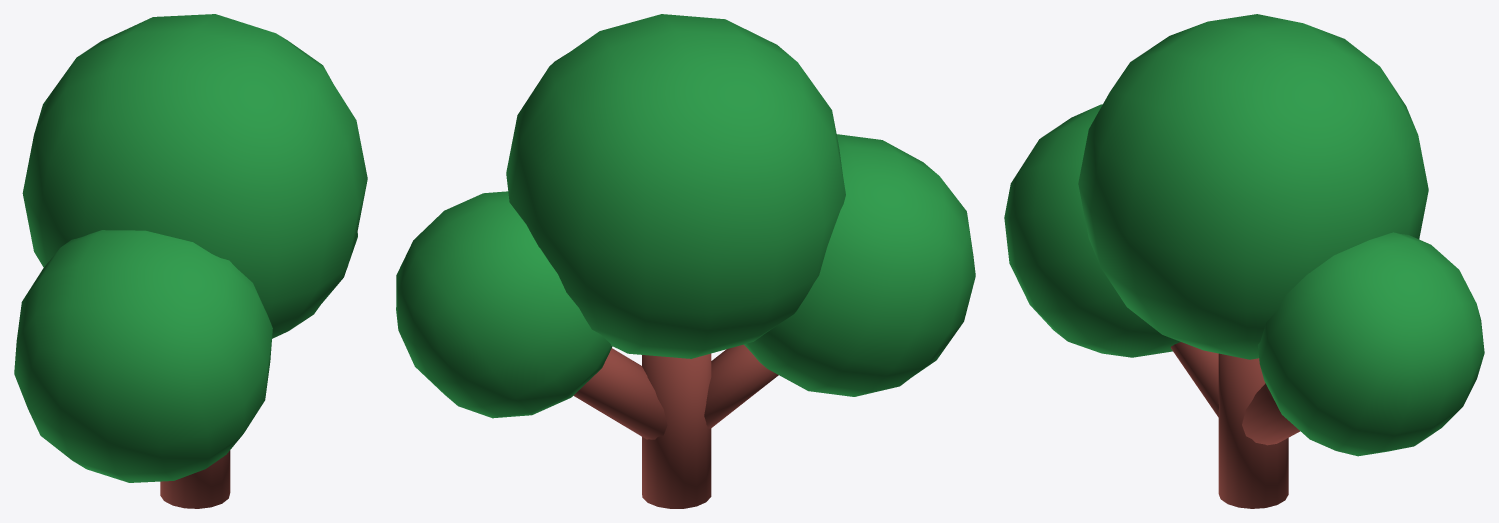
File: Bush_Food.glb
3 views of the same model, side by side, from view 1: azimuth 30°, elevation 25°; view 2: azimuth 150°, elevation 25°; view 3: azimuth 270°, elevation 25° (orthographic).
Visible parts, largest first — view 1: Bush_Food; view 2: Bush_Food; view 3: Bush_Food.
Part boxes in pixels (x1=…): Bush_Food: x1=14, y1=14, x2=367, y2=508; Bush_Food: x1=396, y1=14, x2=975, y2=508; Bush_Food: x1=1004, y1=14, x2=1484, y2=508.
Size of the model in its own units: 0.0616 by 0.0626 by 0.059.
Materials: 1 (1 with a texture image).
